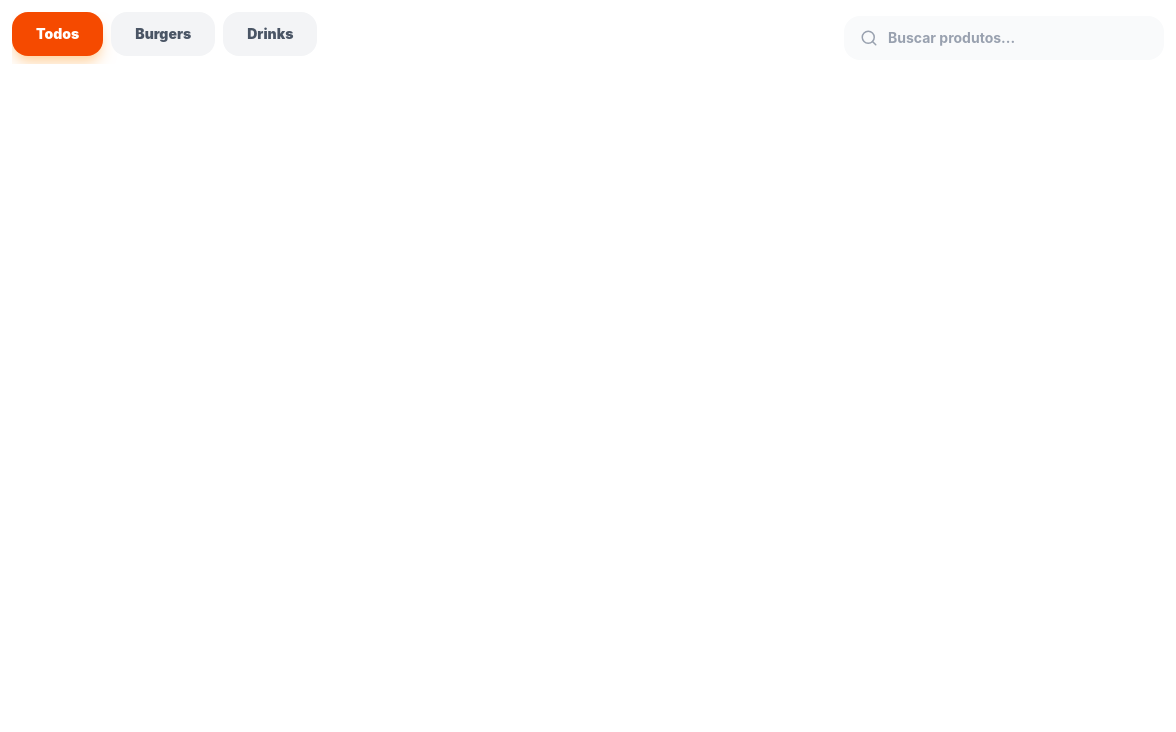
CategoryFilter Component › filters products by category when a category button is clicked
Click the button "Burgers" at (163, 34), box 111,12 -> 215,56
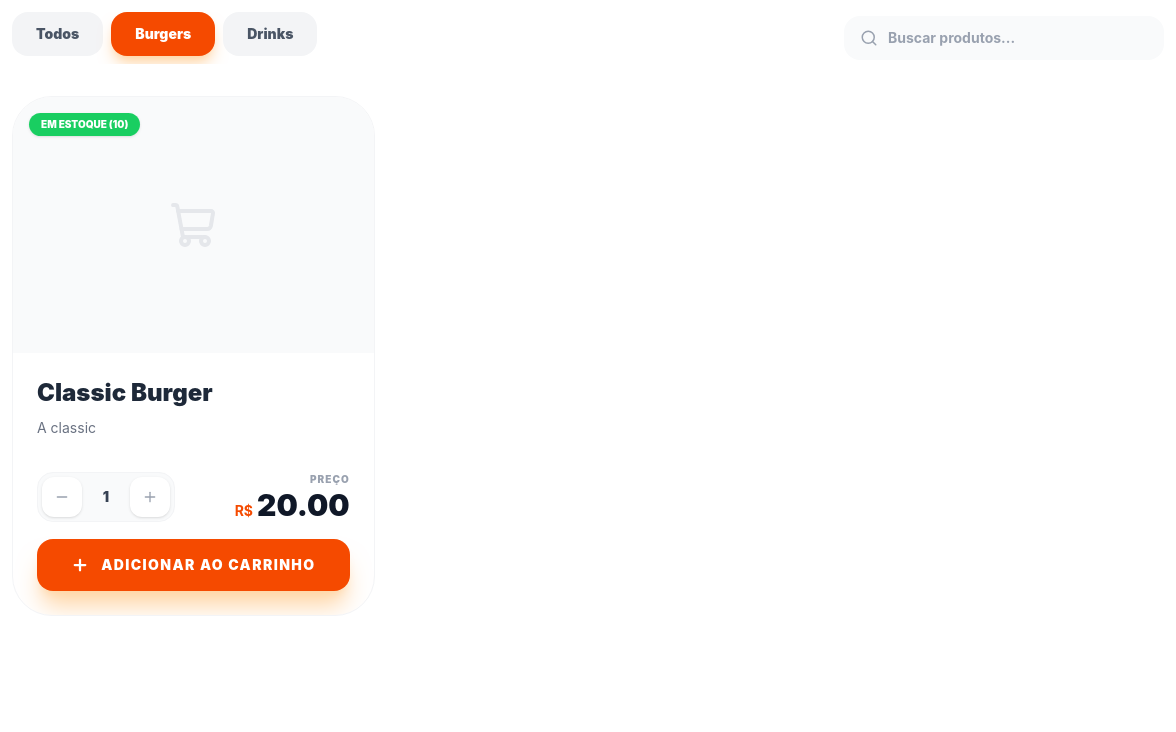
Result: the heading "Classic Burger" is shown at 37,378 -> 213,407
